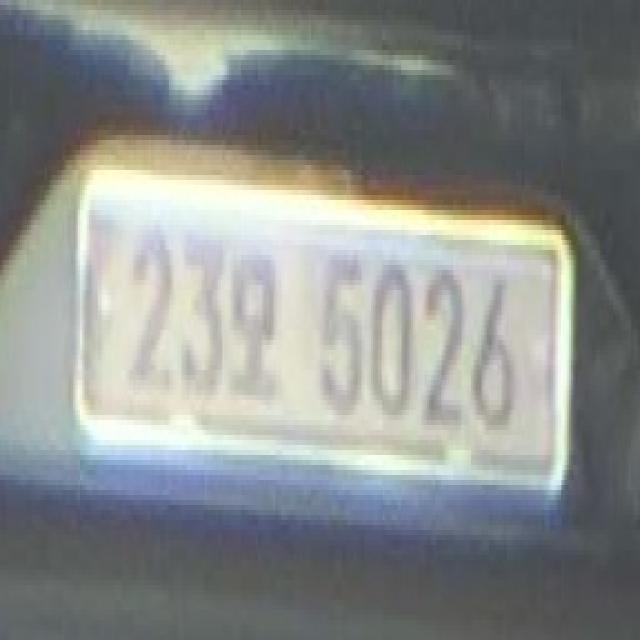0: (373, 248, 419, 428)
2: (121, 220, 179, 403), (421, 246, 471, 439)
3: (179, 219, 232, 402)
5: (311, 240, 370, 423)
6: (475, 259, 520, 437)
license_plate: (79, 183, 567, 480)
mo: (231, 232, 283, 407)
